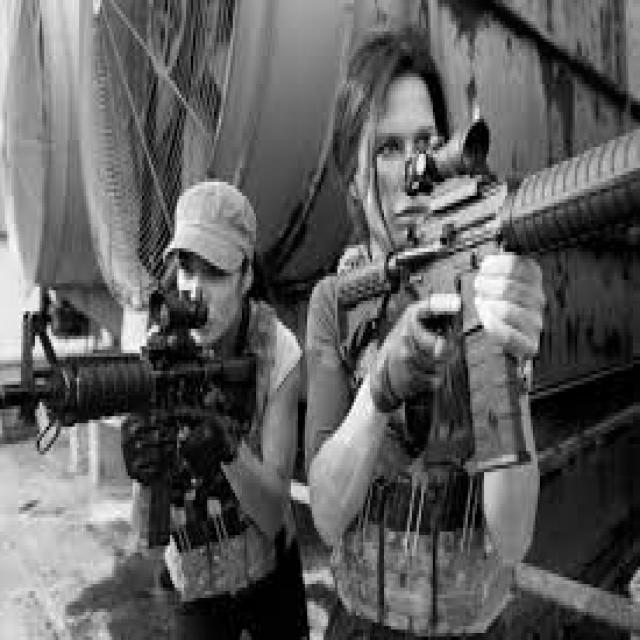gun: (331, 120, 638, 474), (4, 304, 252, 549)
